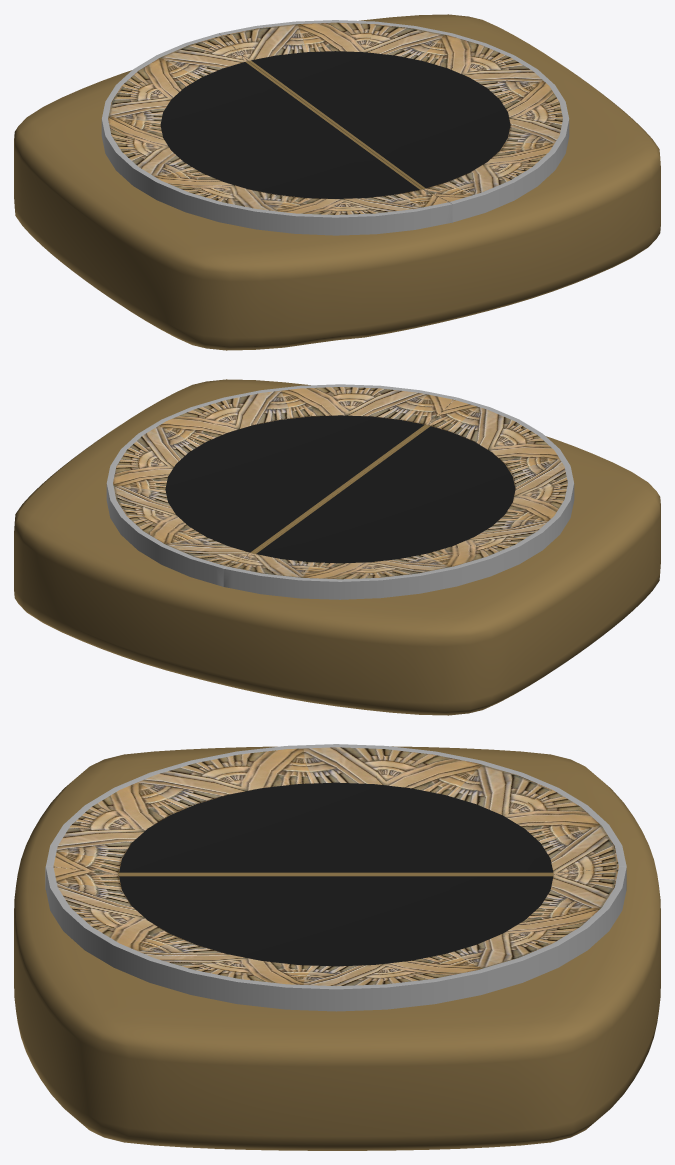
The model's file is HandInputSocket.fbx.
3 renders of one model, top to bottom at view 1: azimuth 30°, elevation 25°; view 2: azimuth 150°, elevation 25°; view 3: azimuth 270°, elevation 25°, orthographic. The views are drawn at different scales.
Parts seen in each view (by area): view 1: Body, DoorLeft, DoorRight; view 2: Body, DoorLeft, DoorRight; view 3: Body, DoorRight, DoorLeft.
Part boxes in pixels (x1=…): Body: x1=14, y1=14, x2=660, y2=350; DoorLeft: x1=101, y1=33, x2=452, y2=235; DoorRight: x1=219, y1=20, x2=569, y2=222; Body: x1=14, y1=379, x2=660, y2=715; DoorLeft: x1=223, y1=397, x2=574, y2=599; DoorRight: x1=106, y1=384, x2=456, y2=586; Body: x1=14, y1=746, x2=660, y2=1150; DoorRight: x1=45, y1=867, x2=626, y2=1011; DoorLeft: x1=45, y1=744, x2=626, y2=889.
Bounding box in the file's own units: 4.36 × 0.9161 × 3.89.
